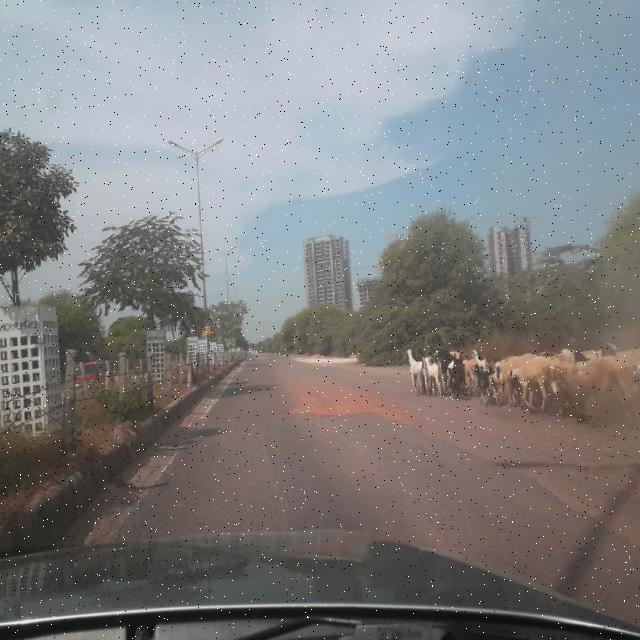D00: (408, 414, 627, 542)
D40: (282, 372, 402, 424)
